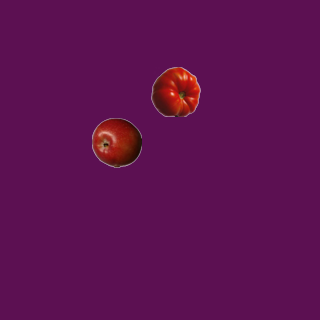Apple Braeburn: (91, 117, 141, 167)
Tomato 3: (150, 66, 200, 116)
